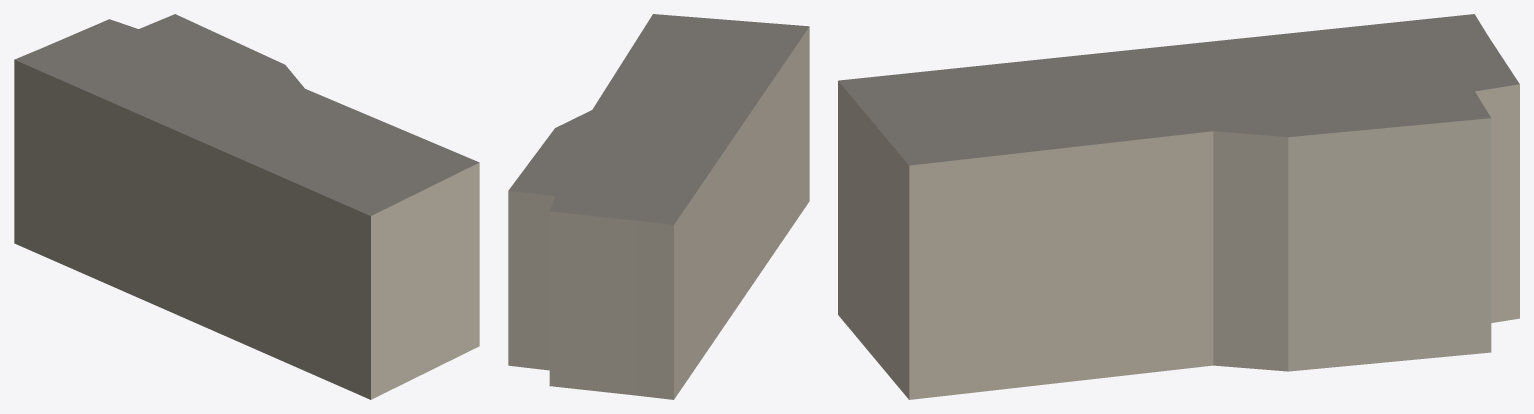
3 views of the same model, side by side, from view 1: azimuth 30°, elevation 25°; view 2: azimuth 150°, elevation 25°; view 3: azimuth 270°, elevation 25° (orthographic). The views are drawn at different scales.
Visible parts, largest first — view 1: HP-w297827878; view 2: HP-w297827878; view 3: HP-w297827878.
Boxes of the visible parts, bbox=[...] form: HP-w297827878: bbox=[14, 14, 479, 399]; HP-w297827878: bbox=[508, 14, 809, 399]; HP-w297827878: bbox=[838, 14, 1519, 399].
Size of the model in its own units: 24.97 by 18 by 47.45.
